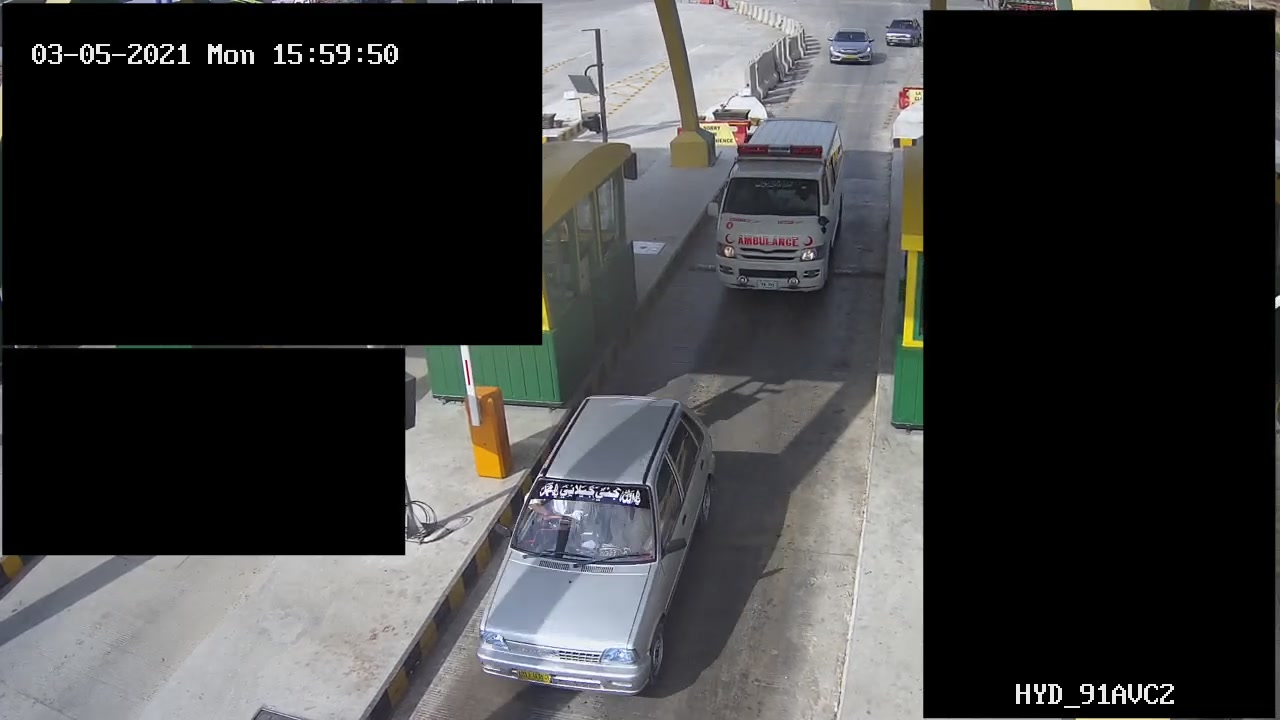F2: (707, 113, 851, 304)
